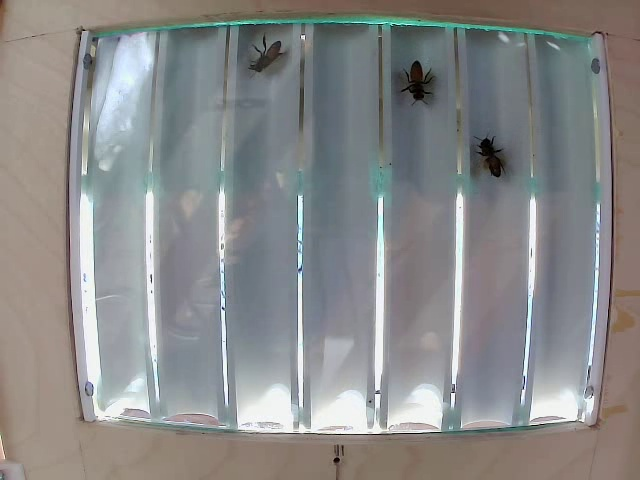bee: (460, 127, 509, 179), (396, 60, 440, 117), (247, 38, 288, 90)
